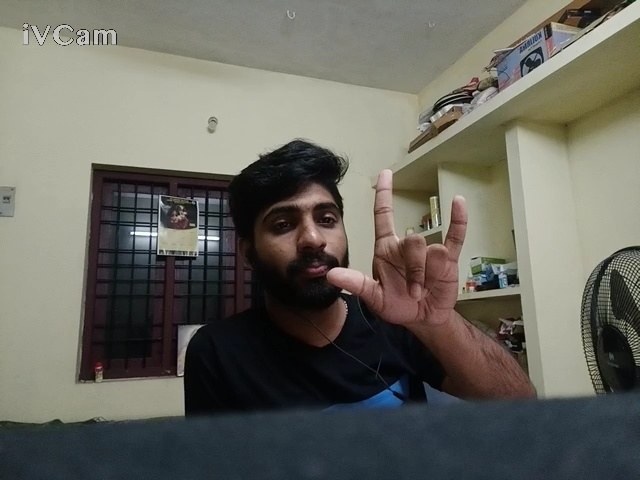I Love You: (305, 148, 505, 348)
